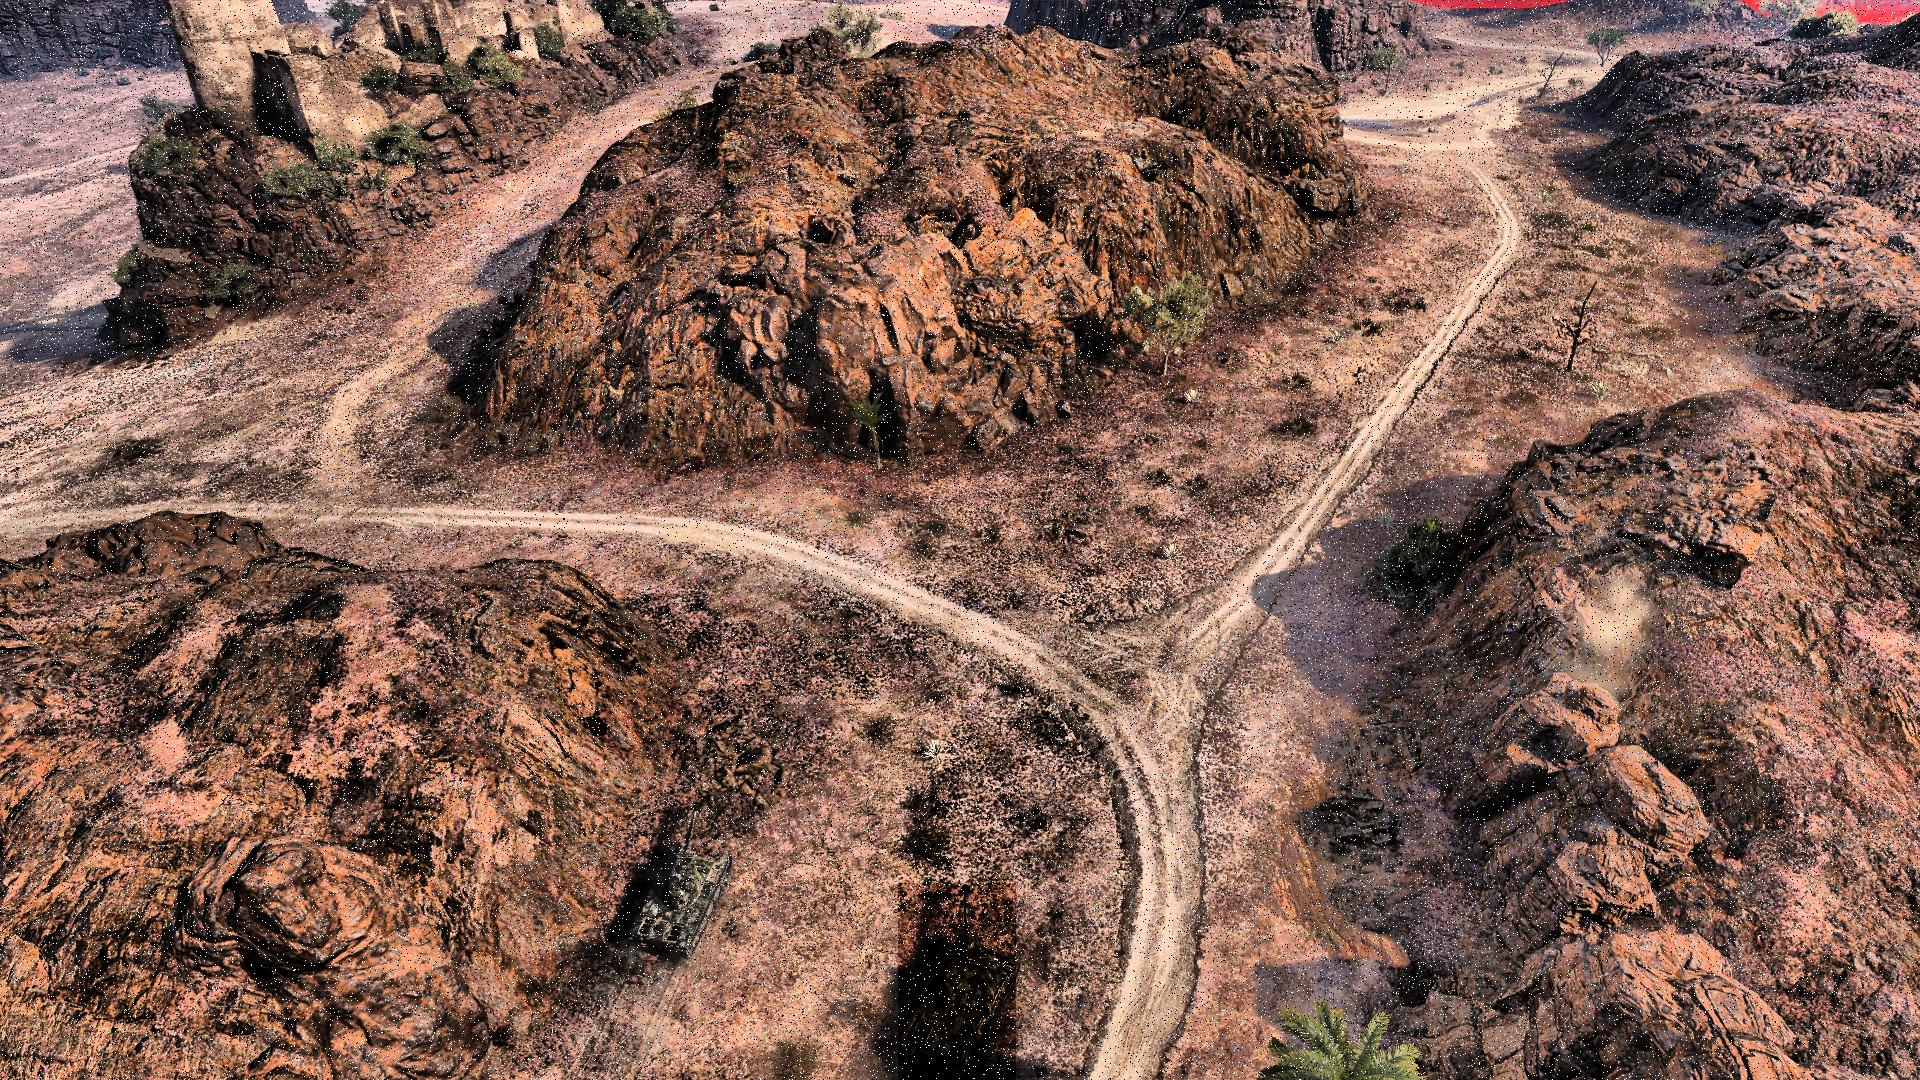military-vehicle: (898, 884, 1015, 1080), (630, 798, 731, 965)
